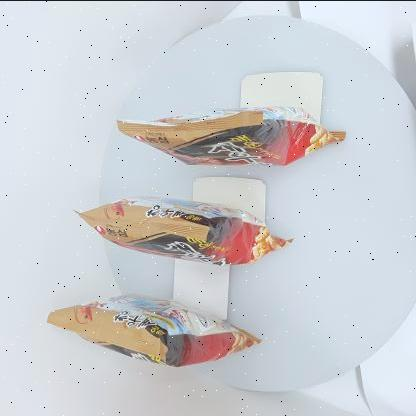Others: (41, 98, 350, 372)
